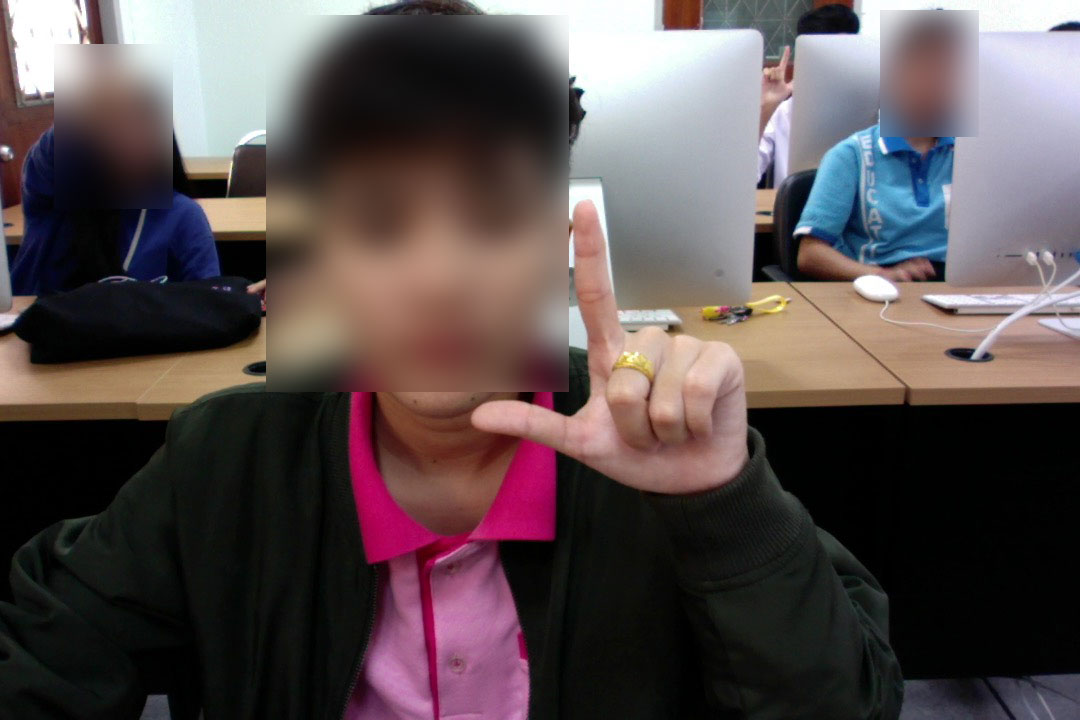lor: (454, 192, 787, 523)
